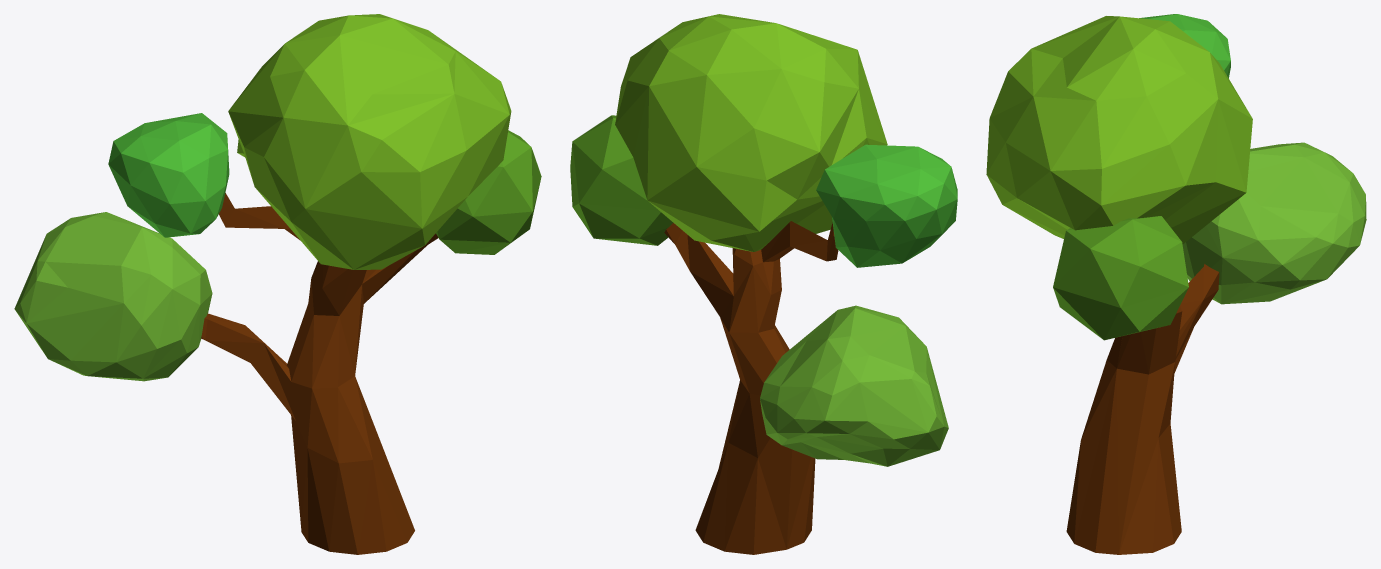
File: tree_felix.fbx
The picture shows the model from 3 angles, left to right: view 1: azimuth 30°, elevation 25°; view 2: azimuth 150°, elevation 25°; view 3: azimuth 270°, elevation 25°; orthographic projection.
Parts seen in each view (by area): view 1: Icosphere.002; view 2: Icosphere.002; view 3: Icosphere.002.
Part boxes in pixels (bbox=[...]): Icosphere.002: bbox=[14, 14, 541, 554]; Icosphere.002: bbox=[570, 14, 957, 554]; Icosphere.002: bbox=[986, 14, 1366, 554].
Size of the model in its own units: 8.9 by 9.68 by 6.59.
